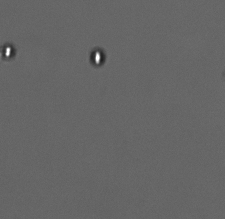Living Cell: (88, 47, 108, 68), (1, 42, 17, 62)
